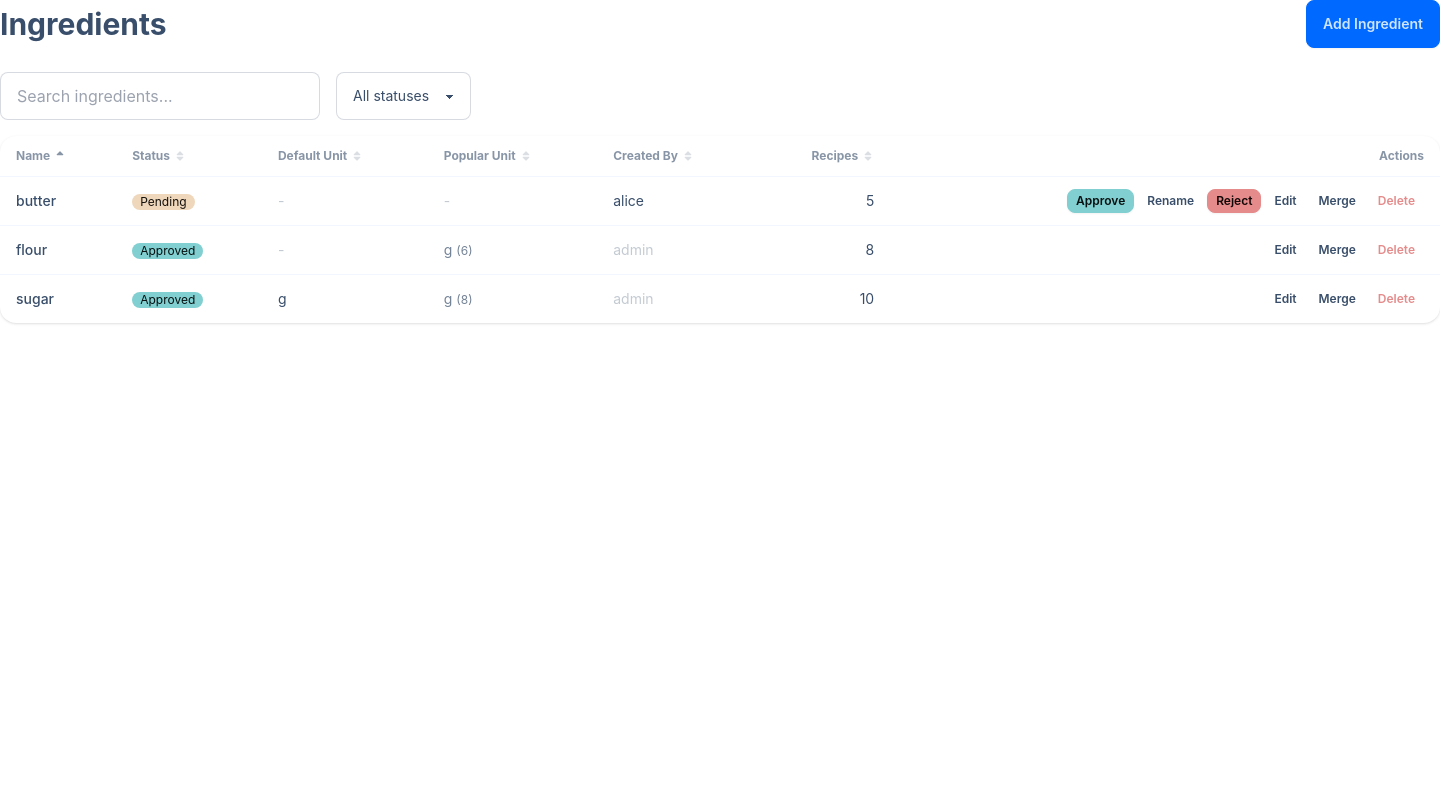
Test: AdminIngredientsPage › should open create modal
Click the button "Add Ingredient" at x=1373, y=24, box [1306, 0, 1439, 48]
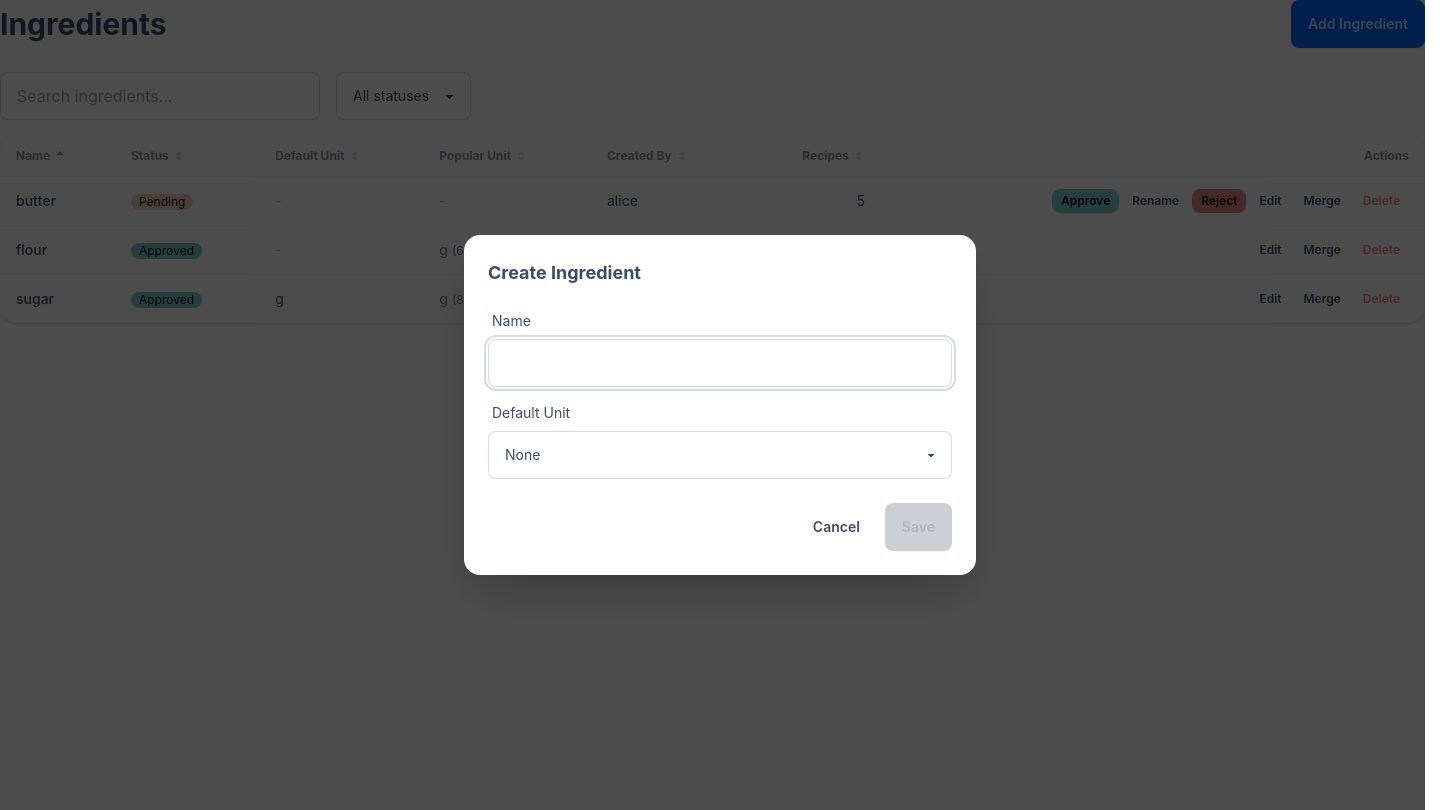
Expected: the heading "Create Ingredient" is shown, [488, 262, 641, 283]
